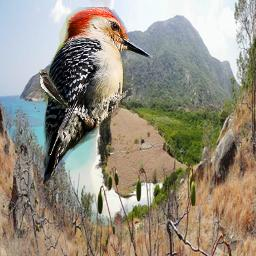Swallow: (39, 69, 69, 109)
Woodpecker: (43, 7, 157, 184)
